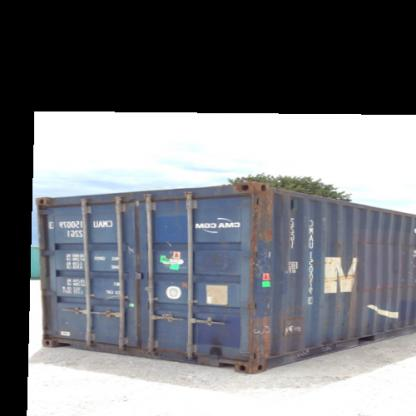Damage: (240, 187, 278, 303), (316, 271, 415, 299), (240, 301, 274, 373), (338, 234, 415, 254), (318, 323, 362, 351), (284, 308, 310, 348), (373, 315, 415, 334), (201, 332, 227, 362), (206, 240, 232, 268)
